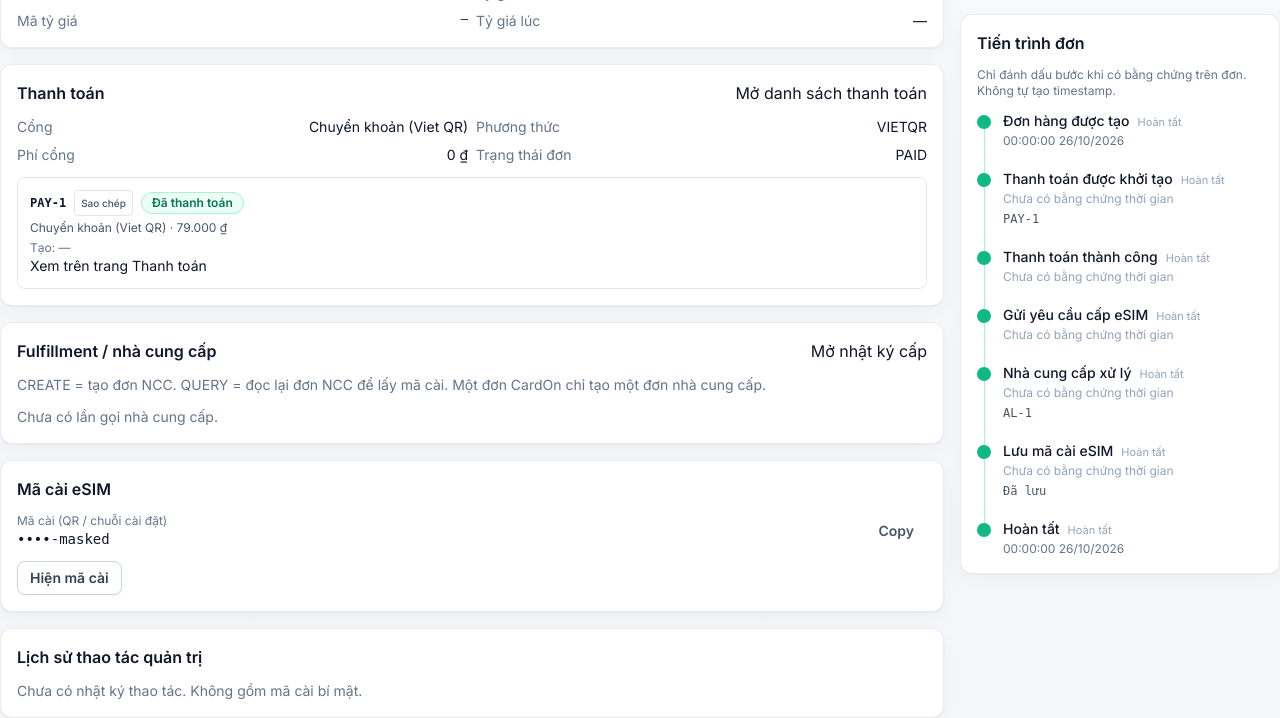
Test: Admin eSIM ops reveal UI › 3. hide removes the fixture from the DOM
(page scrolled)
Step 1. Click the button "Hiện mã cài" → (69,578), box [17,561,122,595]
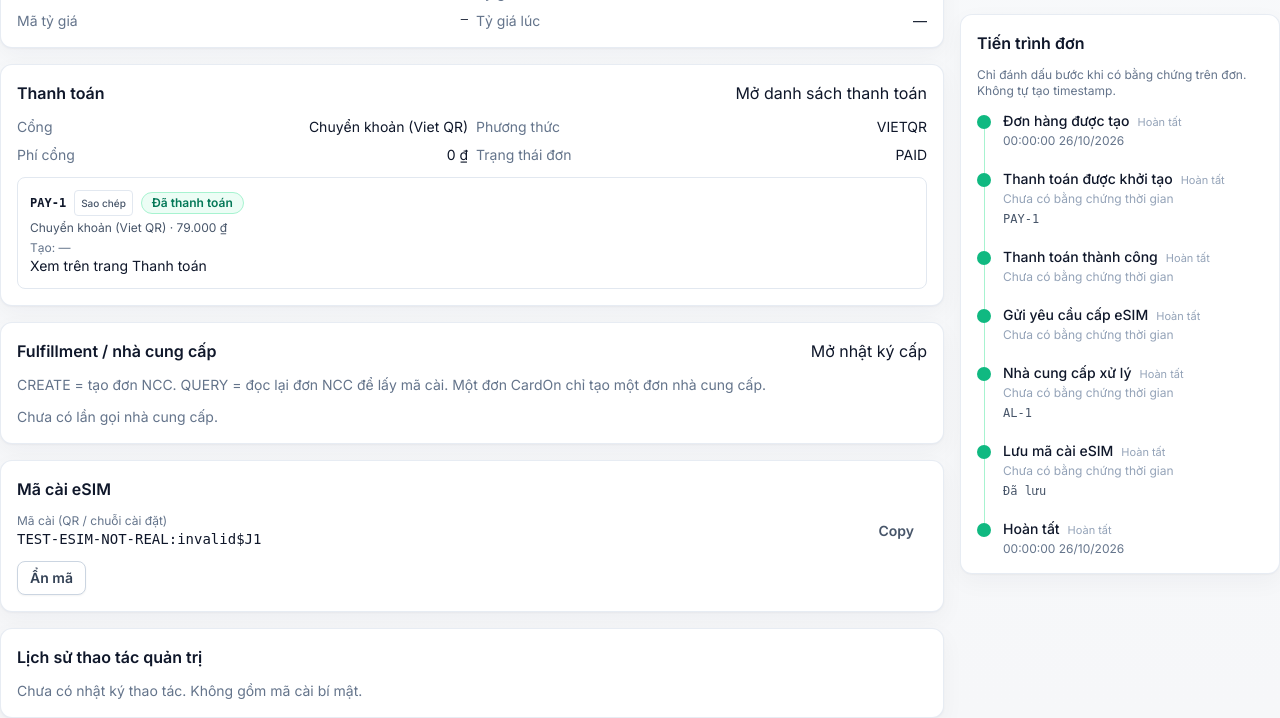
Step 2. Click the button "Ẩn mã" → (51,578), box [17,561,86,595]
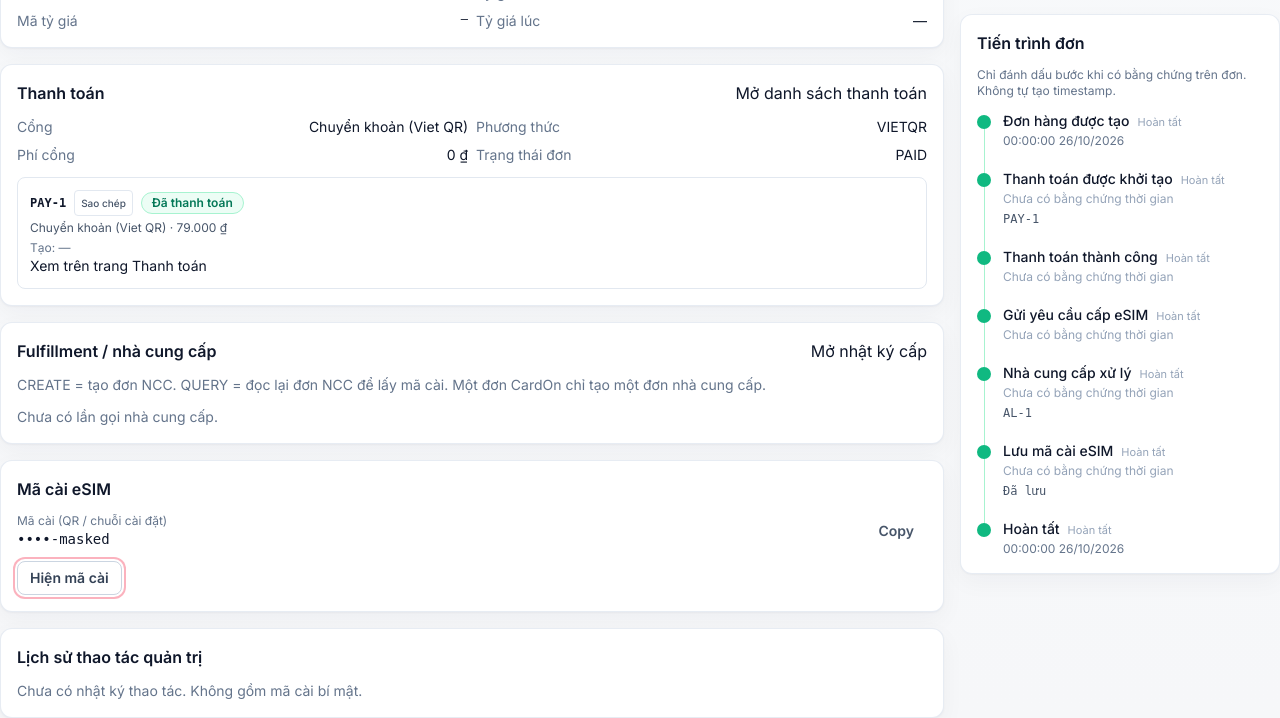
expect the text "••••-masked" is shown: met, box [17,531,110,547]
expect the button "Hiện mã cài" is shown: met, box [17,561,122,595]
